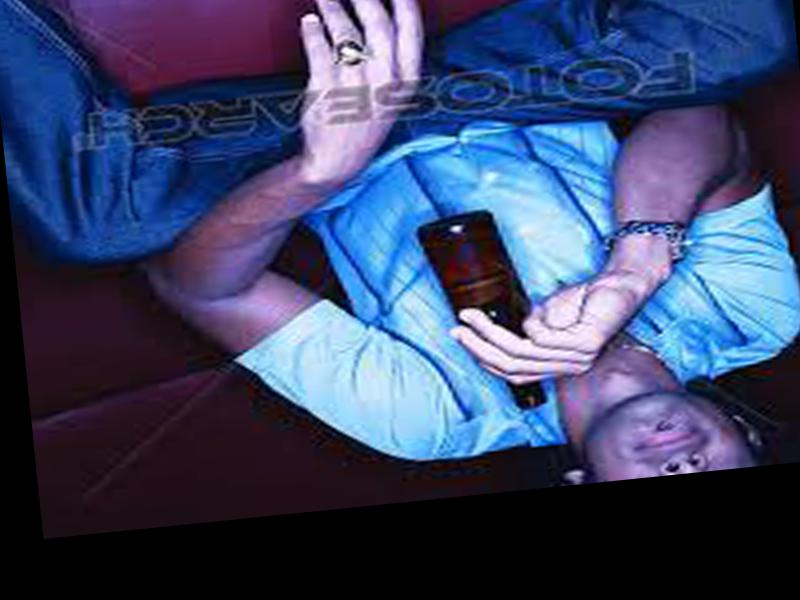Beer: (412, 207, 548, 419)
